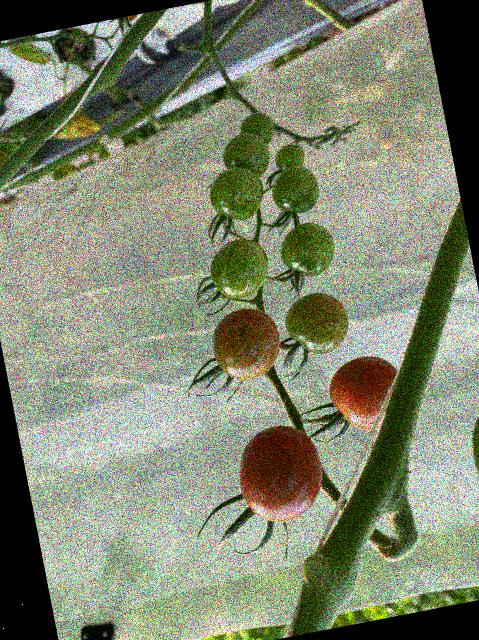l_fully_ripened: (229, 418, 331, 528), (323, 349, 406, 435)
l_green: (278, 287, 353, 361), (203, 233, 272, 303), (275, 217, 340, 282), (203, 163, 266, 225), (266, 162, 322, 218), (218, 131, 272, 184), (235, 109, 276, 148), (272, 142, 306, 173)
l_half_ripened: (206, 303, 286, 386)
